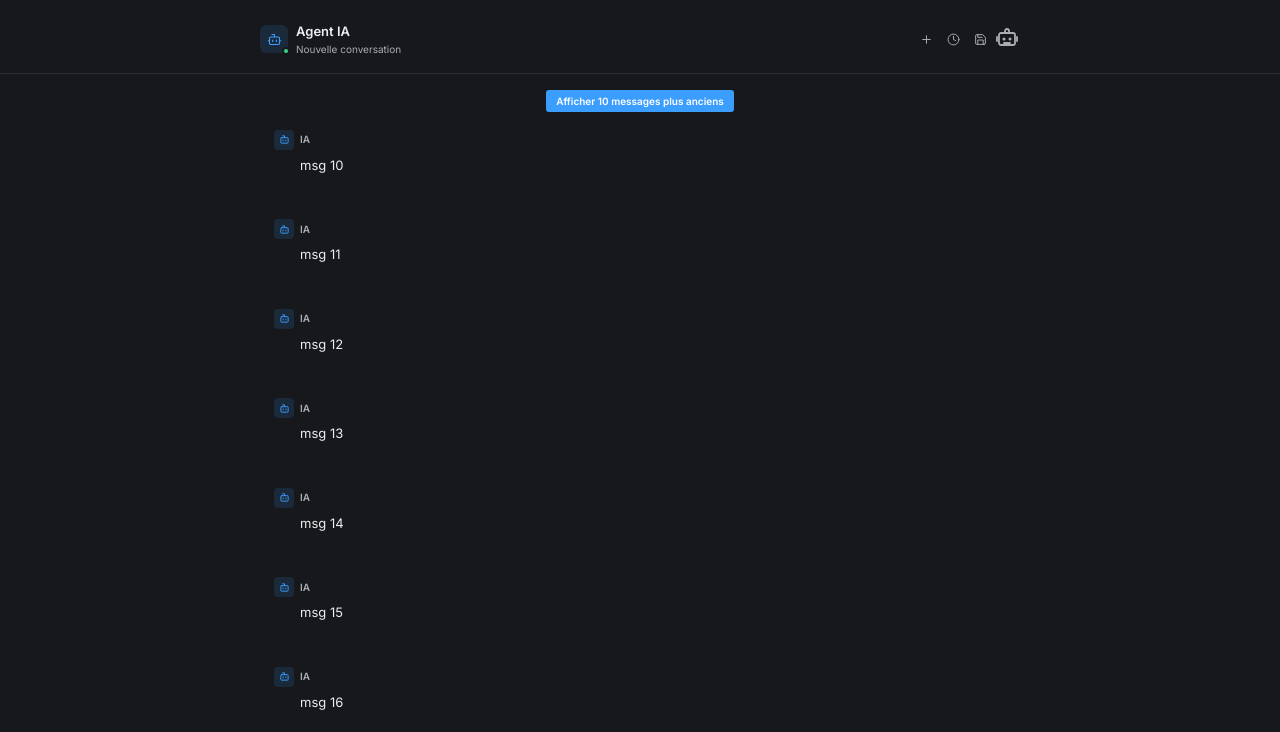
Test: COD-70 — fenetre glissante (B.11) › bouton "plus anciens" absent sous la fenetre, present au-dessus
Click the button "Afficher 10 messages plus anciens": (640, 100) x1=546 y1=90 x2=734 y2=112
(page scrolled)
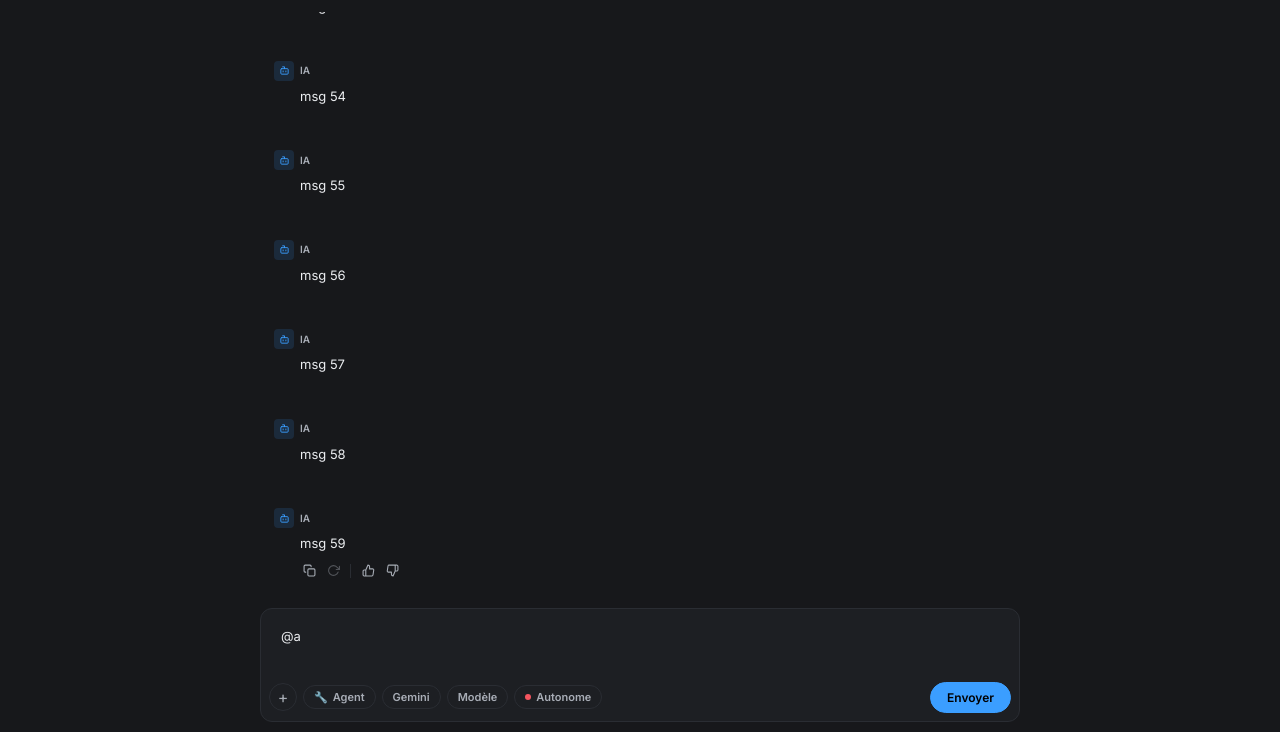
Expected: the text "msg 59" is shown, x1=300 y1=535 x2=346 y2=551
Now the button "plus anciens" is gone
